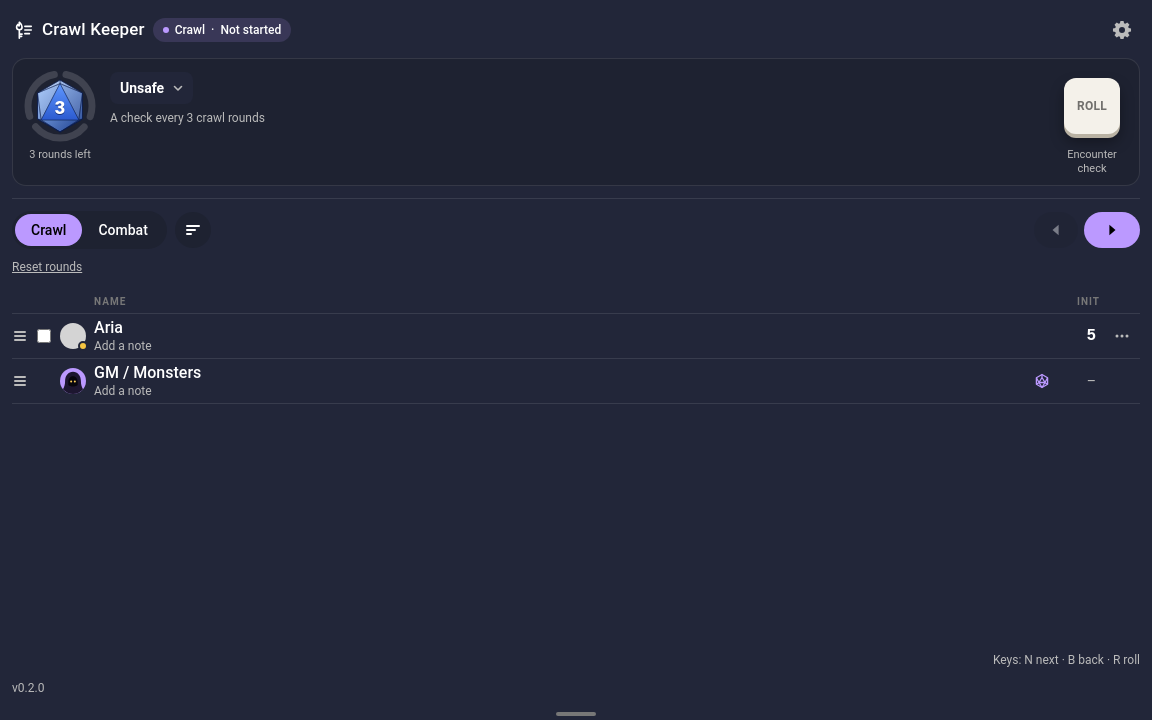
it: Tracker (GM) › rejects an out-of-range roll and keeps the old value
The width and height of the screenshot is (1152, 720).
Replace the text in the field named "Initiative for Aria" with "abc" at point(1080, 336), box [1060,322,1100,350]
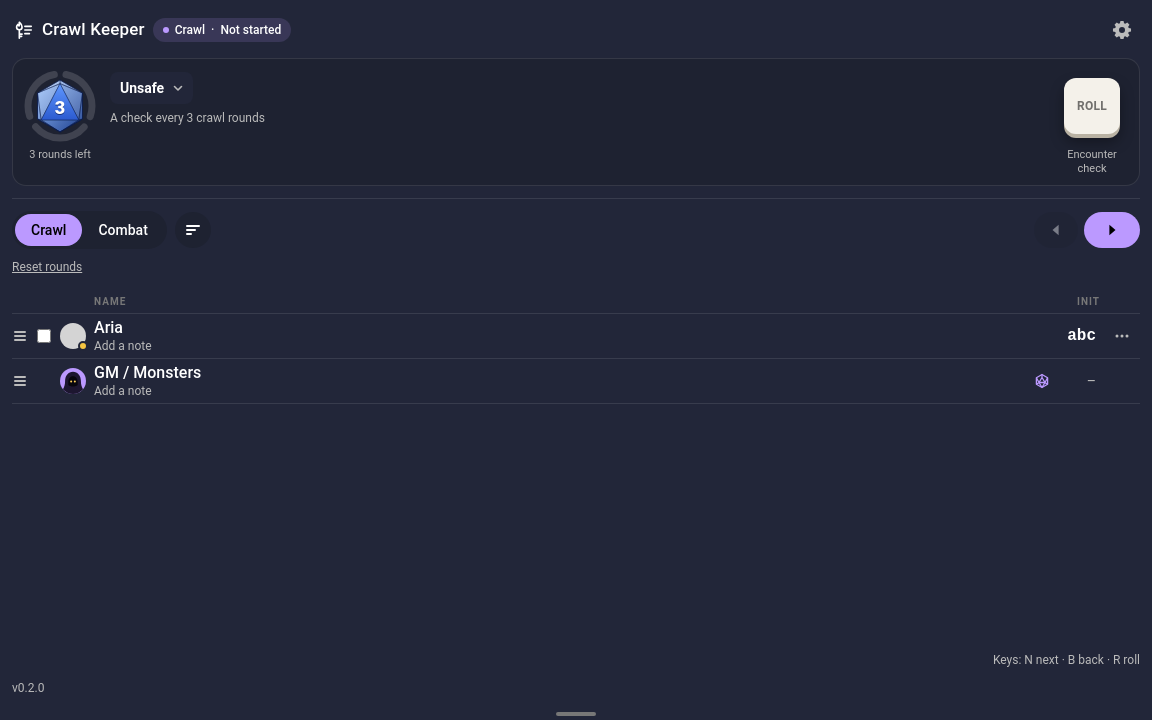
Leave the field named "Initiative for Aria", box [1060,322,1100,350]
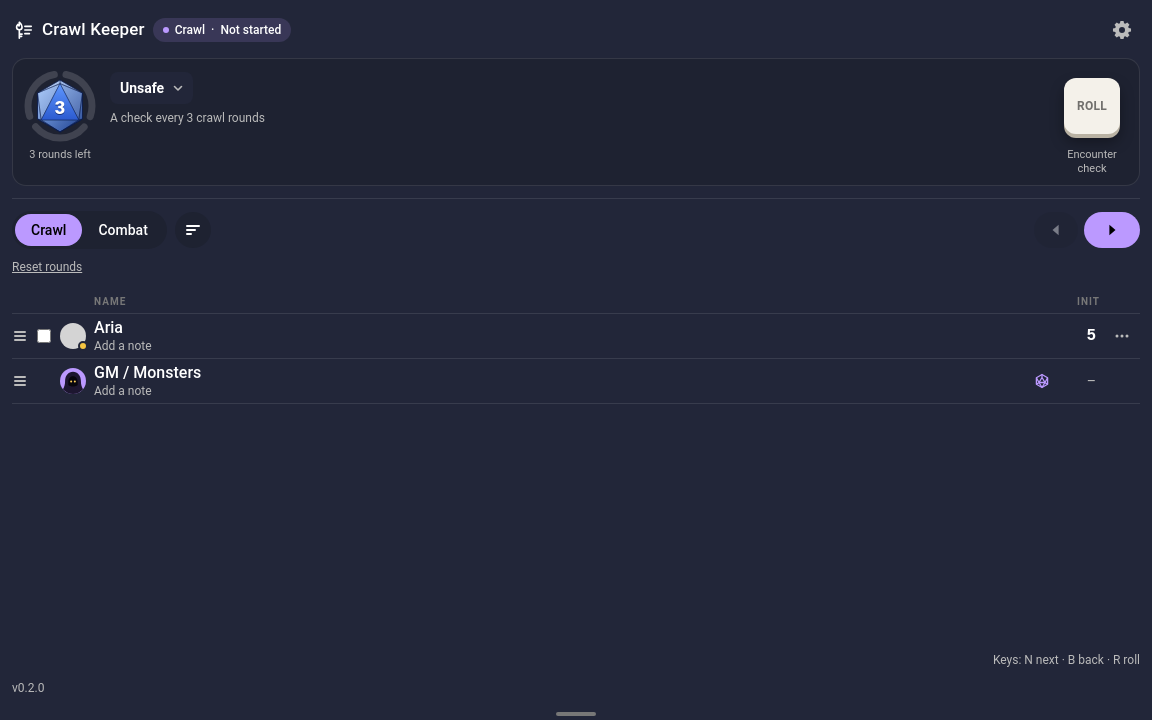
Expected: the field named "Initiative for Aria" holds "5", [1060,322,1100,350]
